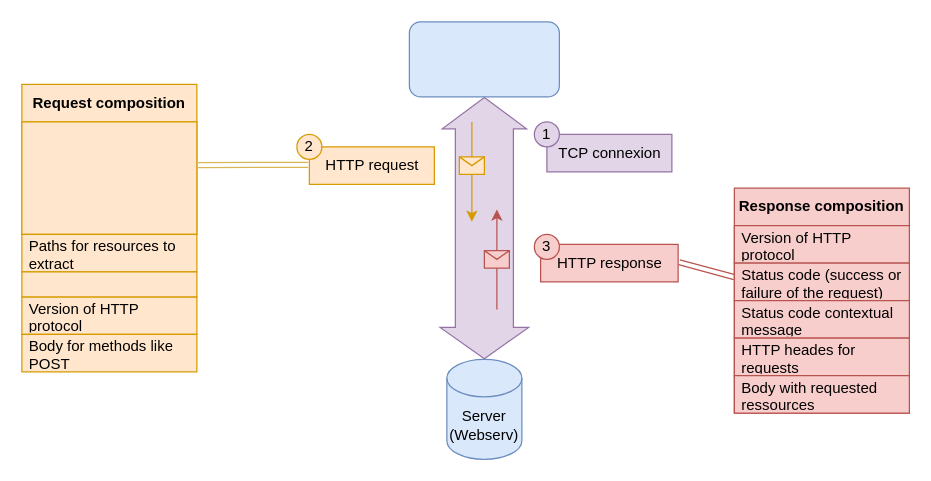
This 931x481 diagram has some shape labels left out. The centre of each missing label's shape, as x and y in pixels:
"Client (Web browser)" belongs at (x=483, y=59).
"Methods: GET = reading POST = creation PUT = modification DELETE = suppression" belongs at (x=109, y=177).
"Optional heades" belongs at (x=109, y=284).
